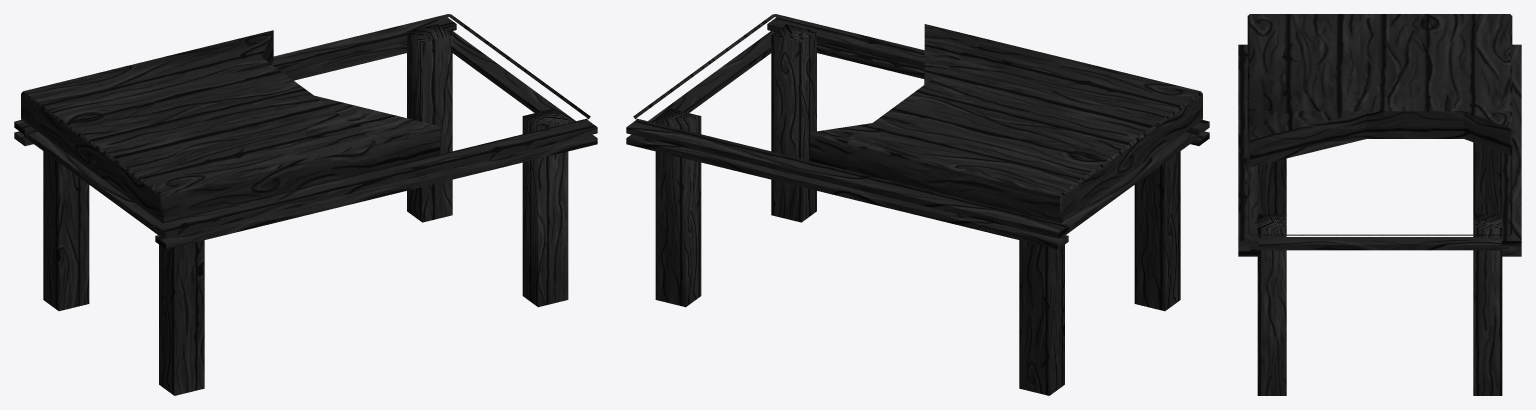
File: broken_table.fbx
3 views of the same model, side by side, from view 1: azimuth 30°, elevation 25°; view 2: azimuth 150°, elevation 25°; view 3: azimuth 270°, elevation 25° (orthographic). The views are drawn at different scales.
Parts seen in each view (by area): view 1: shared_table_00; view 2: shared_table_00; view 3: shared_table_00.
Part boxes in pixels (left/top/right/bottom): shared_table_00: left=14, top=14, right=597, bottom=395; shared_table_00: left=626, top=14, right=1209, bottom=395; shared_table_00: left=1238, top=14, right=1521, bottom=395.
Bounding box in the file's own units: 207 × 96.24 × 126.
